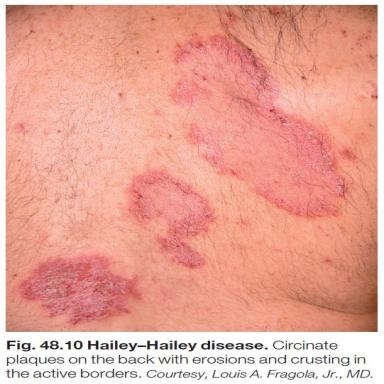Hailey-Hailey-Disease: (172, 37, 345, 216), (129, 172, 213, 268), (22, 256, 132, 324)
